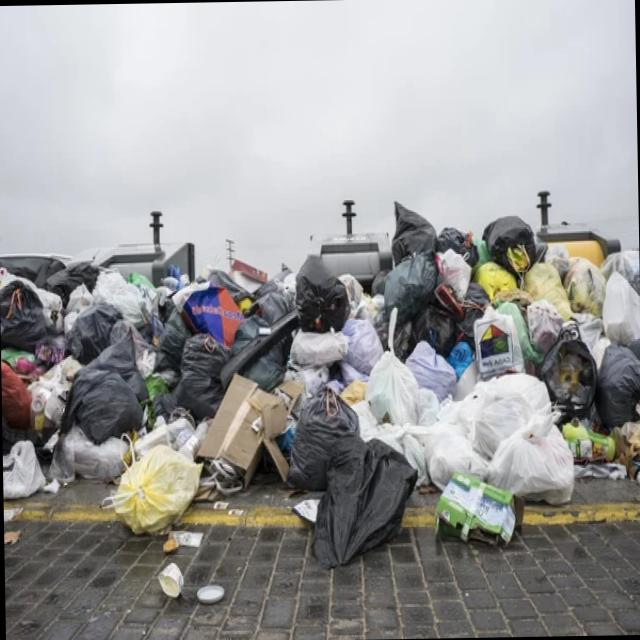garbage: (11, 196, 579, 582)
